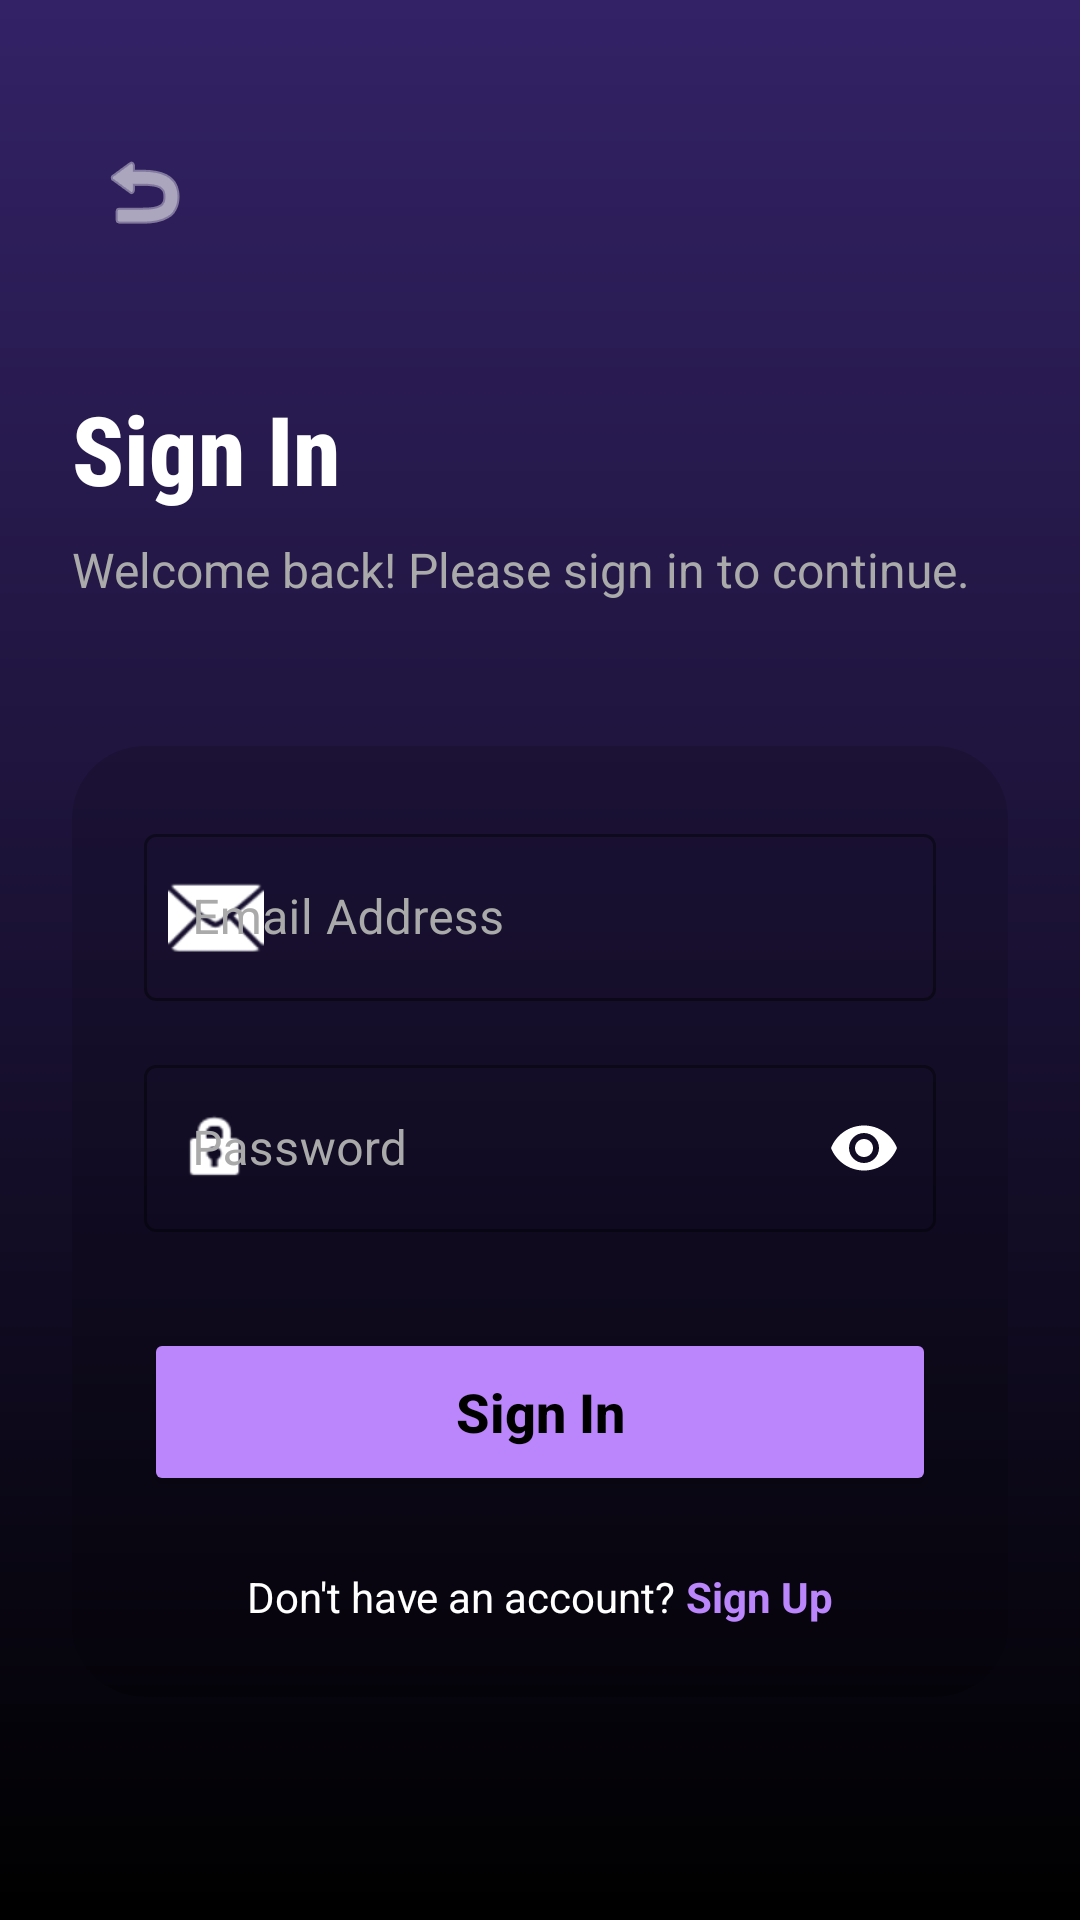

Where icons sit on this 1080px x 1920px app screen, as [x1=x1, y1=y1, x2=x2, y2=y2]:
revert: [x1=111, y1=161, x2=180, y2=224]
